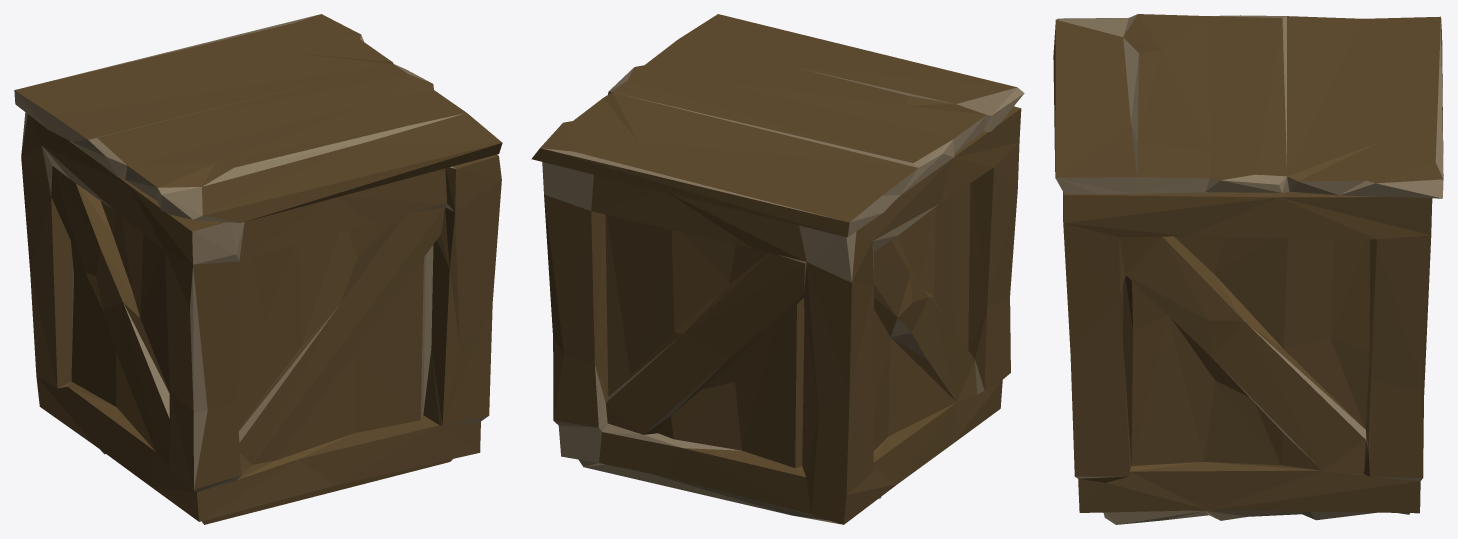
The model's file is MDungeon_CrateClosed_01.FBX.
3 renders of one model, left to right at view 1: azimuth 30°, elevation 25°; view 2: azimuth 150°, elevation 25°; view 3: azimuth 270°, elevation 25°, orthographic. The views are drawn at different scales.
Parts seen in each view (by area): view 1: MDungeon_CrateClosed_01_LOD0; view 2: MDungeon_CrateClosed_01_LOD0; view 3: MDungeon_CrateClosed_01_LOD0.
Part boxes in pixels (bbox=[...]): MDungeon_CrateClosed_01_LOD0: bbox=[14, 14, 502, 524]; MDungeon_CrateClosed_01_LOD0: bbox=[531, 14, 1024, 524]; MDungeon_CrateClosed_01_LOD0: bbox=[1053, 14, 1443, 524].
Size of what is drawn, in the model's own units: 1.05 by 1.05 by 1.03.
